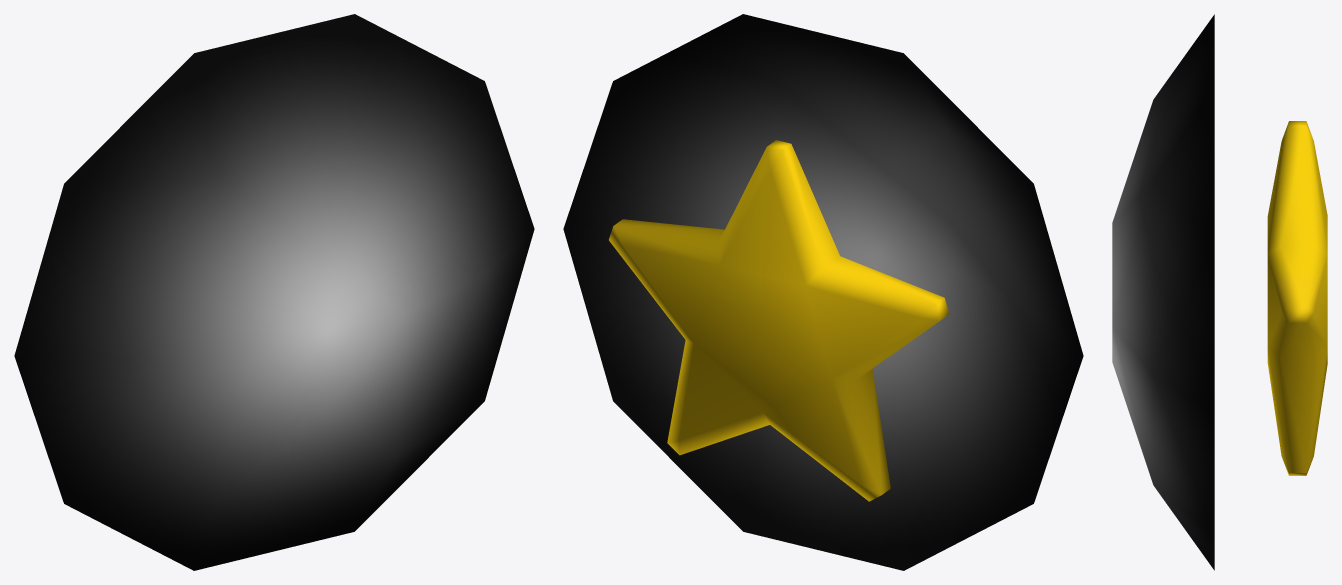
The model's file is geostar.dae.
3 renders of one model, left to right at view 1: azimuth 30°, elevation 25°; view 2: azimuth 150°, elevation 25°; view 3: azimuth 270°, elevation 25°, orthographic. The views are drawn at different scales.
Parts seen in each view (by area): view 1: n1b1; view 2: n1b1, n0b0; view 3: n1b1, n0b0.
Part boxes in pixels (<box>): n1b1: <box>14,14,534,570</box>; n1b1: <box>563,14,1083,570</box>; n0b0: <box>609,140,949,501</box>; n1b1: <box>1112,14,1214,570</box>; n0b0: <box>1267,121,1327,475</box>.
Bounding box in the file's own units: 983 × 935 × 377.
Materials: 2 (2 with a texture image).
